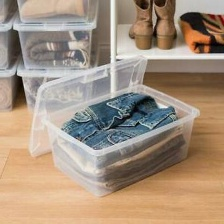plastic_box: (21, 48, 206, 202), (12, 31, 104, 118), (9, 0, 102, 73), (9, 0, 106, 27)
